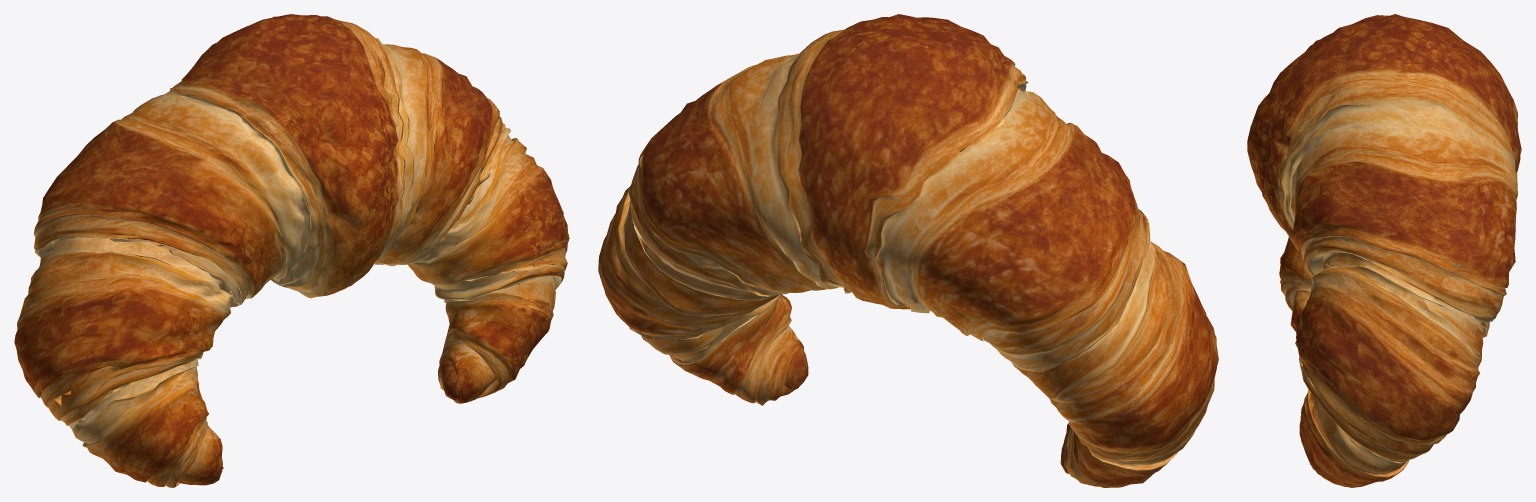
Rendered from ck_crescent_pastry-original.glb.
3 renders of one model, left to right at view 1: azimuth 30°, elevation 25°; view 2: azimuth 150°, elevation 25°; view 3: azimuth 270°, elevation 25°, orthographic. The views are drawn at different scales.
Bounding box in the file's own units: 0.9565 × 0.6865 × 0.439.
Materials: 1 (1 with a texture image).
